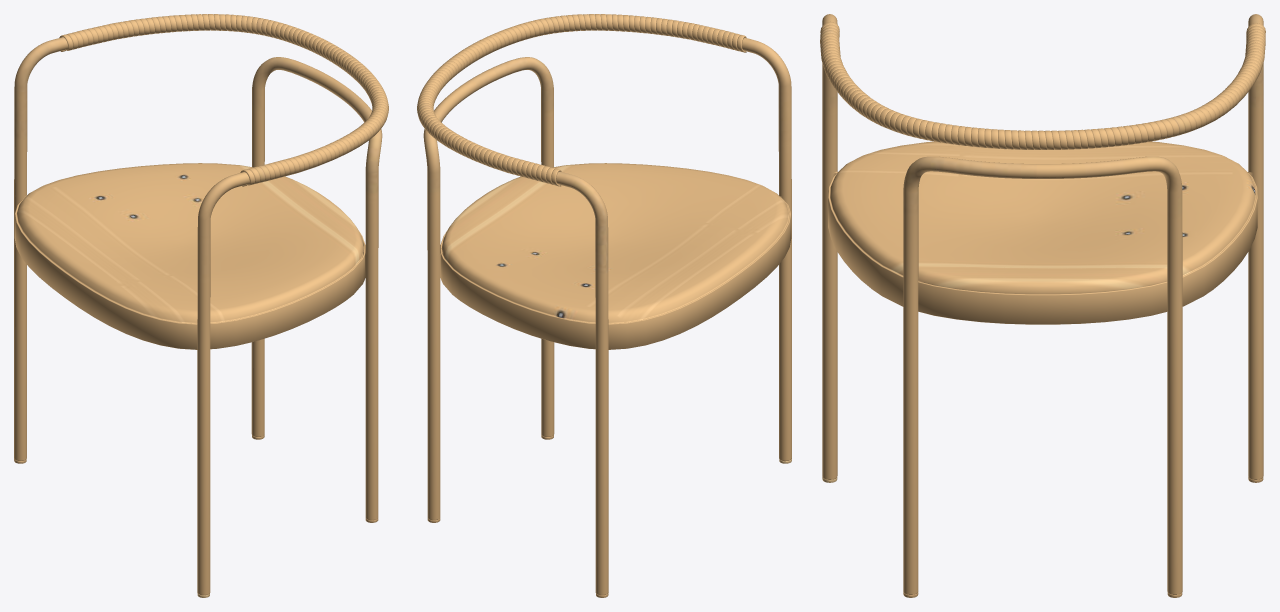
Rendered from chair_made_of_metal_and_wood.obj.
The picture shows the model from 3 angles, left to right: view 1: azimuth 30°, elevation 25°; view 2: azimuth 150°, elevation 25°; view 3: azimuth 270°, elevation 25°; orthographic projection. The views are drawn at different scales.
Visible parts, largest first — view 1: chair_made_of_metal_and_wood_CUPlane.002; view 2: chair_made_of_metal_and_wood_CUPlane.002; view 3: chair_made_of_metal_and_wood_CUPlane.002.
Boxes of the visible parts, x1=… form: chair_made_of_metal_and_wood_CUPlane.002: x1=14, y1=14, x2=388, y2=597; chair_made_of_metal_and_wood_CUPlane.002: x1=417, y1=14, x2=791, y2=597; chair_made_of_metal_and_wood_CUPlane.002: x1=820, y1=14, x2=1265, y2=597.
Bounding box in the file's own units: 20.87 × 28.45 × 23.84.
Materials: 1 (1 with a texture image).
